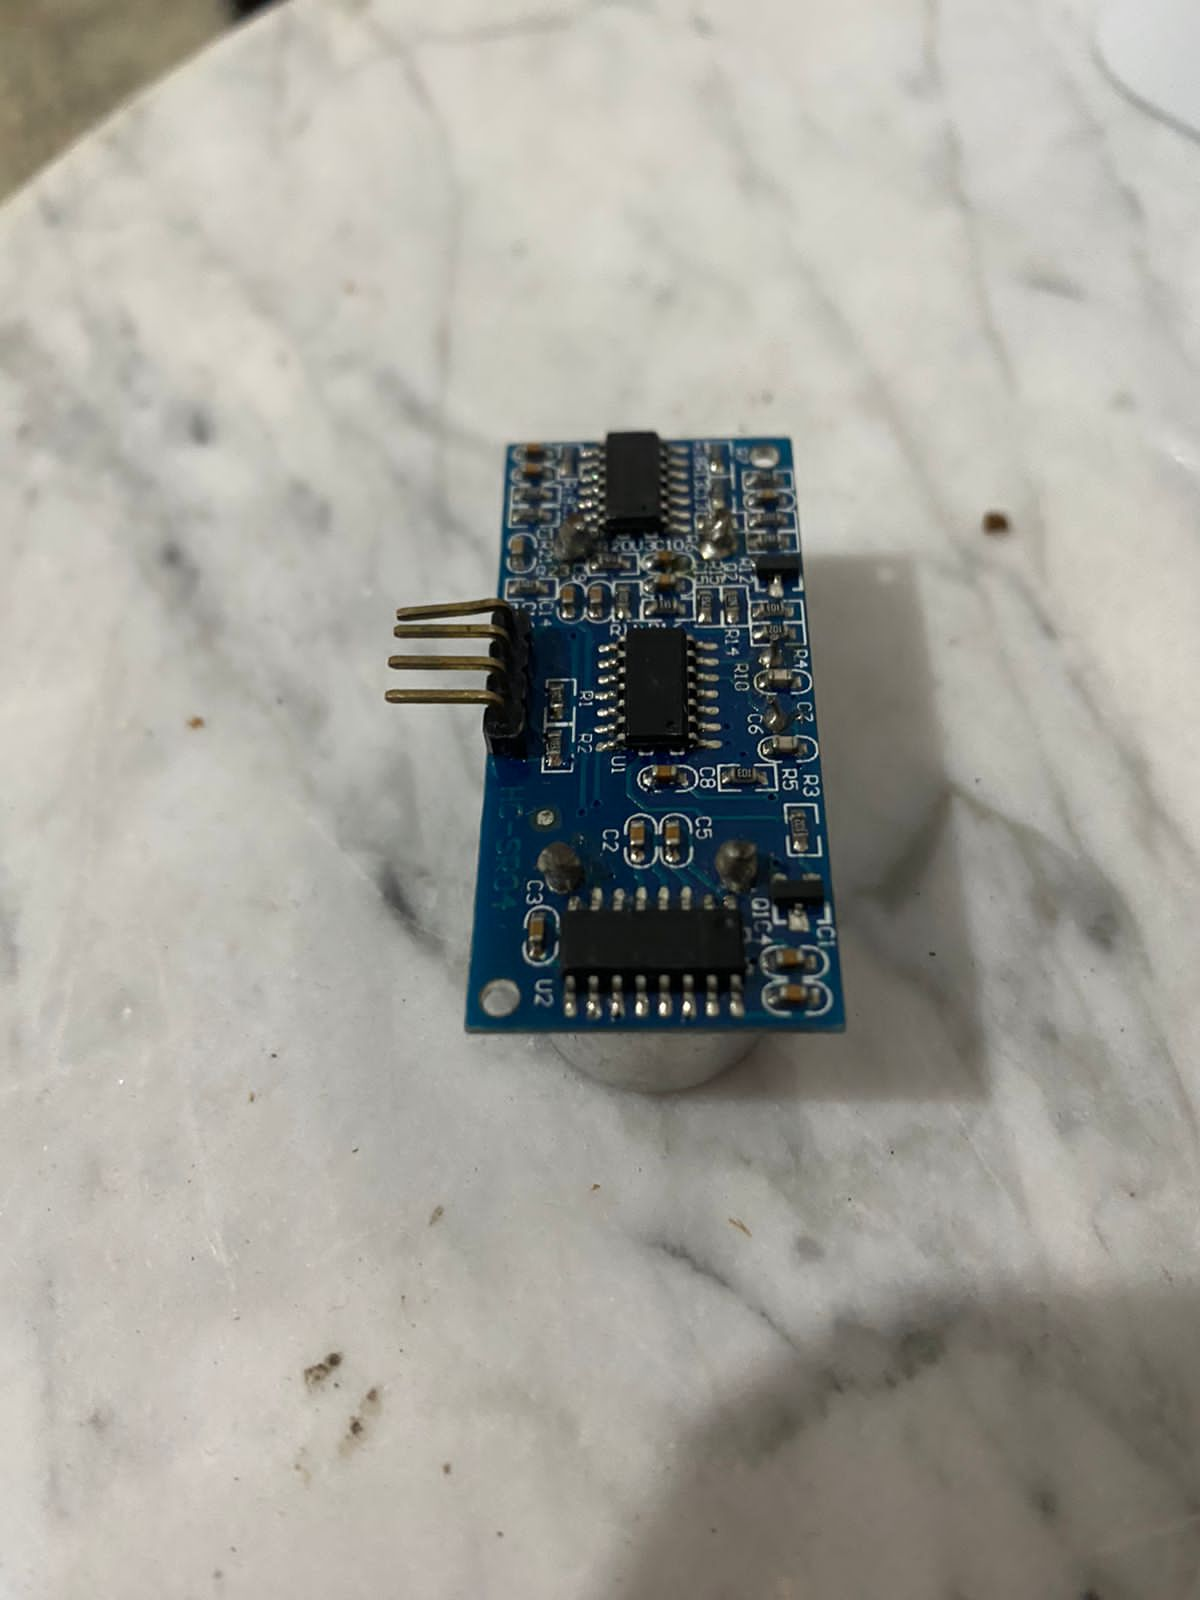capteur-ultrasonique: (389, 414, 874, 1110)
